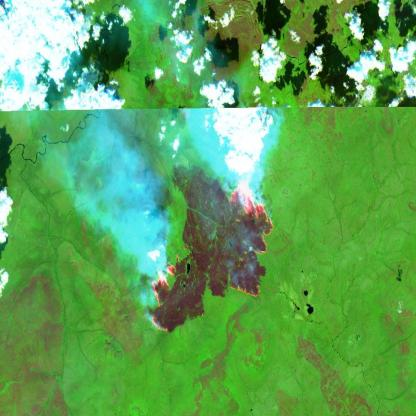fire: (147, 173, 275, 335)
